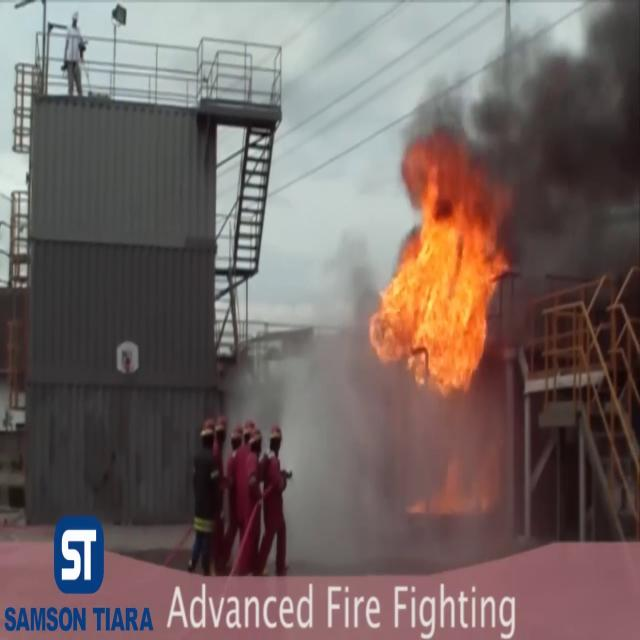Fire: (364, 144, 517, 402)
Smoke: (441, 1, 640, 258)
